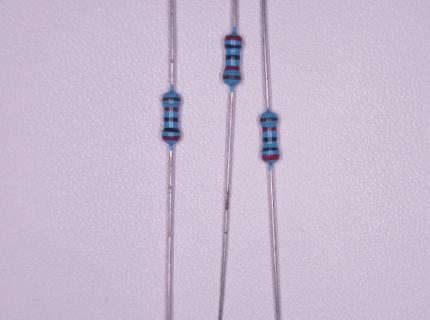Black band: (225, 54, 241, 61), (163, 127, 181, 133), (225, 43, 242, 49), (263, 137, 278, 143), (261, 148, 280, 152), (164, 117, 179, 122)
Brown band: (222, 74, 241, 81), (162, 97, 181, 102), (260, 118, 279, 122)
Red band: (262, 155, 280, 161), (162, 136, 181, 141), (224, 36, 243, 41), (225, 65, 240, 71), (164, 107, 179, 112), (262, 127, 277, 132)
